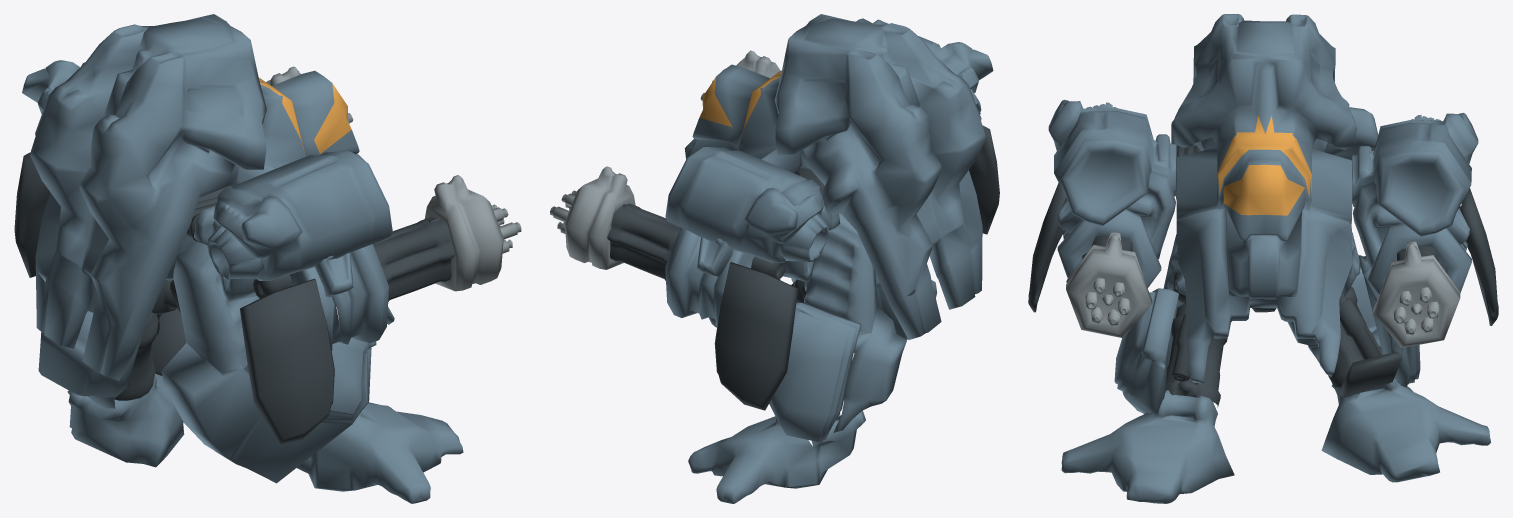
File: viking_assault_rig.glb
The picture shows the model from 3 angles, left to right: view 1: azimuth 30°, elevation 25°; view 2: azimuth 150°, elevation 25°; view 3: azimuth 270°, elevation 25°; orthographic projection. The views are drawn at different scales.
Visible parts, largest first — view 1: HullMesh, LegRightMesh, LegLeftMesh, GunRightMesh; view 2: HullMesh, LegLeftMesh, GunLeftMesh, GunRightMesh, LegRightMesh; view 3: HullMesh, LegRightMesh, LegLeftMesh, GunRightMesh, GunLeftMesh.
Part boxes in pixels (left/top/right/bottom): HullMesh: left=14, top=14, right=394, bottom=445; LegRightMesh: left=161, top=241, right=463, bottom=503; LegLeftMesh: left=38, top=280, right=185, bottom=467; GunRightMesh: left=373, top=175, right=521, bottom=301; HullMesh: left=665, top=14, right=999, bottom=410; LegLeftMesh: left=688, top=214, right=906, bottom=503; GunLeftMesh: left=550, top=166, right=680, bottom=280; GunRightMesh: left=700, top=50, right=780, bottom=100; LegRightMesh: left=709, top=272, right=937, bottom=340; HullMesh: left=1028, top=14, right=1498, bottom=383; LegRightMesh: left=1061, top=234, right=1234, bottom=503; LegLeftMesh: left=1287, top=232, right=1490, bottom=482; GunRightMesh: left=1066, top=231, right=1152, bottom=338; GunLeftMesh: left=1373, top=241, right=1460, bottom=347.
Bounding box in the file's own units: 0.8101 × 0.979 × 0.9995.
1 material, 1 textured.
